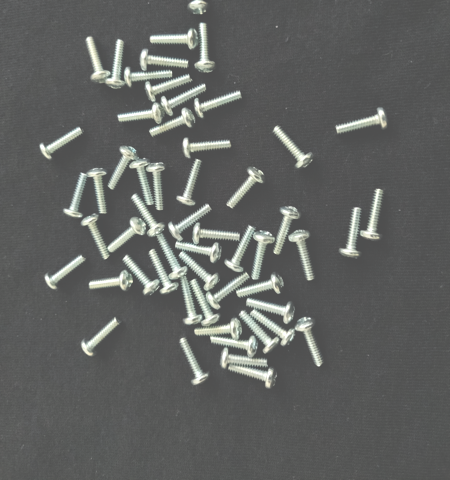shortscrew: (273, 125, 315, 171), (239, 311, 280, 355), (81, 316, 123, 357), (206, 272, 251, 310), (252, 310, 297, 348), (40, 126, 86, 163), (168, 204, 214, 241), (227, 166, 266, 209), (123, 254, 161, 298), (130, 194, 167, 239), (148, 248, 182, 296), (288, 230, 319, 282), (45, 255, 88, 292), (336, 107, 390, 136), (107, 216, 148, 254), (225, 226, 258, 273), (149, 107, 197, 139), (295, 317, 325, 368), (161, 83, 206, 117), (273, 207, 303, 257), (108, 146, 140, 192), (180, 338, 210, 387), (190, 280, 221, 327), (247, 297, 299, 325), (157, 235, 189, 280), (195, 90, 243, 119), (81, 214, 111, 260), (360, 189, 386, 241), (145, 74, 193, 102), (237, 272, 285, 300), (228, 364, 278, 390), (140, 49, 189, 75), (62, 173, 88, 221), (250, 231, 275, 280), (339, 208, 363, 259), (85, 36, 111, 83), (180, 276, 204, 326), (194, 317, 243, 341), (150, 28, 200, 51), (195, 23, 217, 74), (175, 241, 222, 264), (118, 103, 165, 126), (130, 159, 154, 204), (220, 348, 268, 370), (211, 336, 259, 358), (146, 162, 167, 212), (183, 138, 232, 159), (124, 67, 173, 88), (86, 169, 109, 213), (89, 270, 134, 292), (192, 222, 240, 242), (188, 0, 210, 16)
